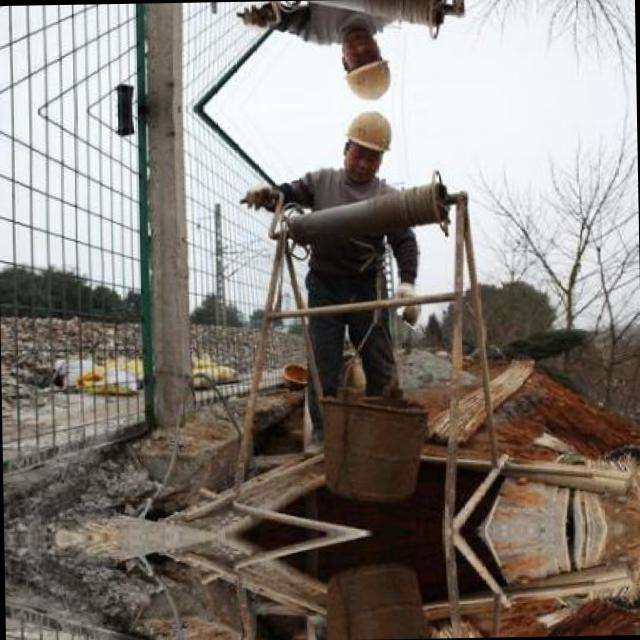helmet: (334, 25, 395, 106), (336, 105, 396, 186)
